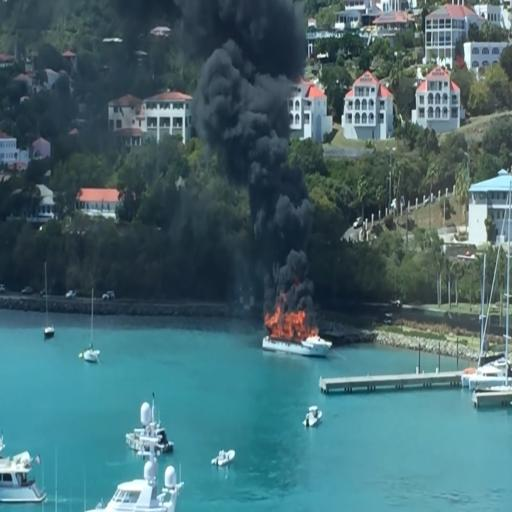smoke: (214, 0, 308, 148), (257, 150, 312, 296), (262, 294, 317, 335)
